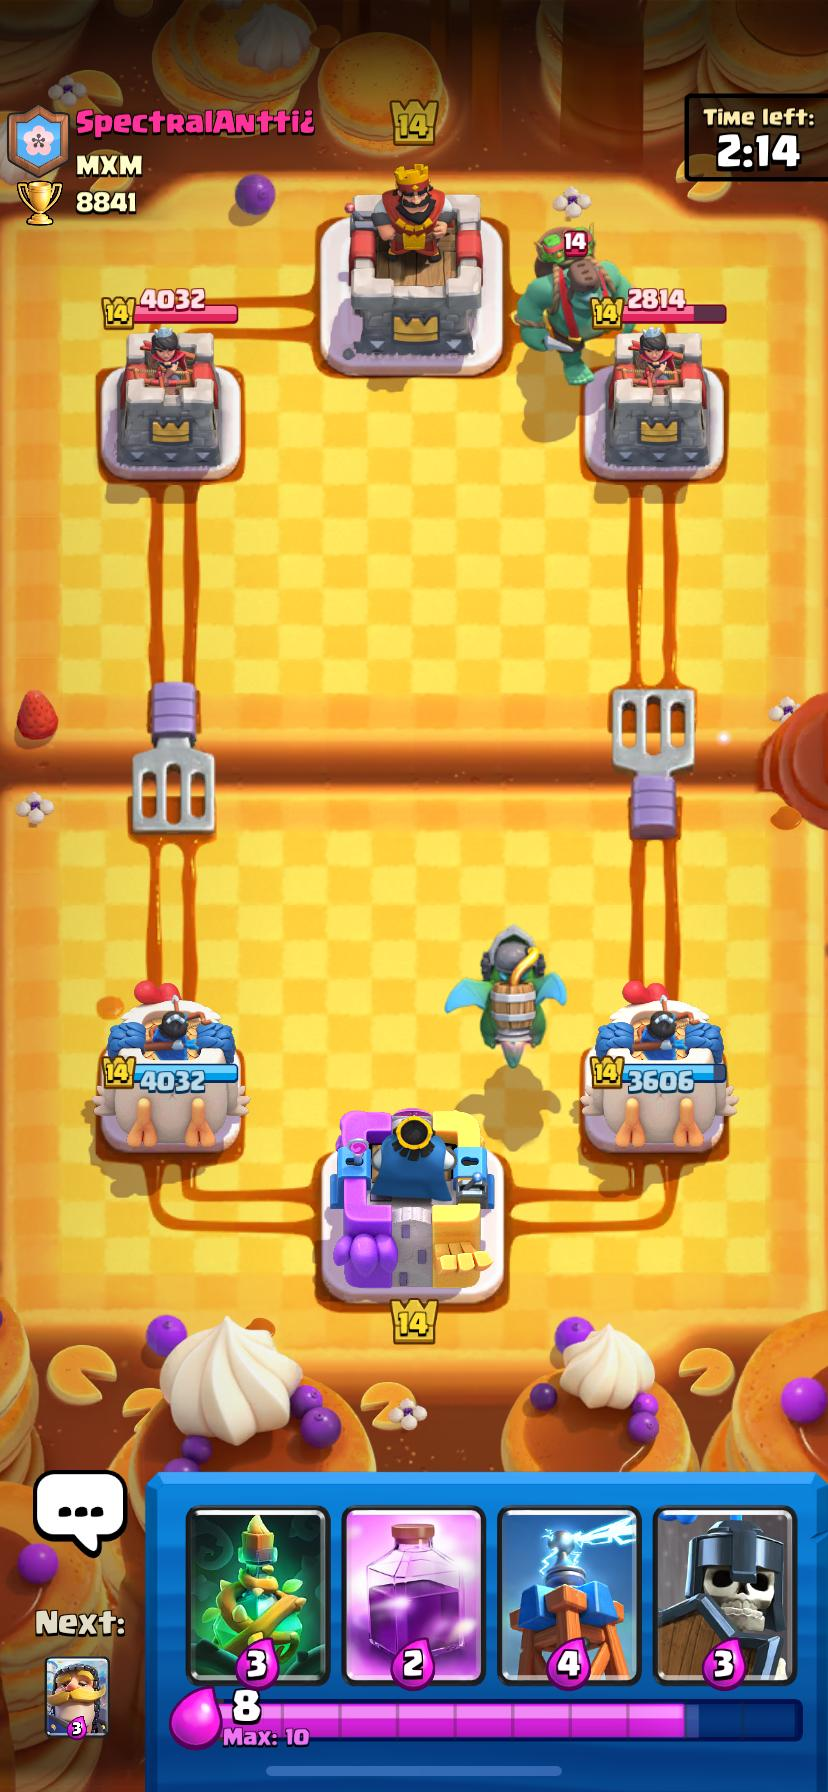EGoblinGiant: (517, 229, 629, 384)
EKingTower: (342, 183, 483, 374)
EnemyPrincessTower: (101, 326, 241, 481), (604, 327, 712, 479)
OInfernoDrag: (445, 925, 566, 1067)
OwnKingTower: (315, 1099, 503, 1303)
OwnPrincessTower: (580, 983, 737, 1153), (93, 983, 248, 1152)
